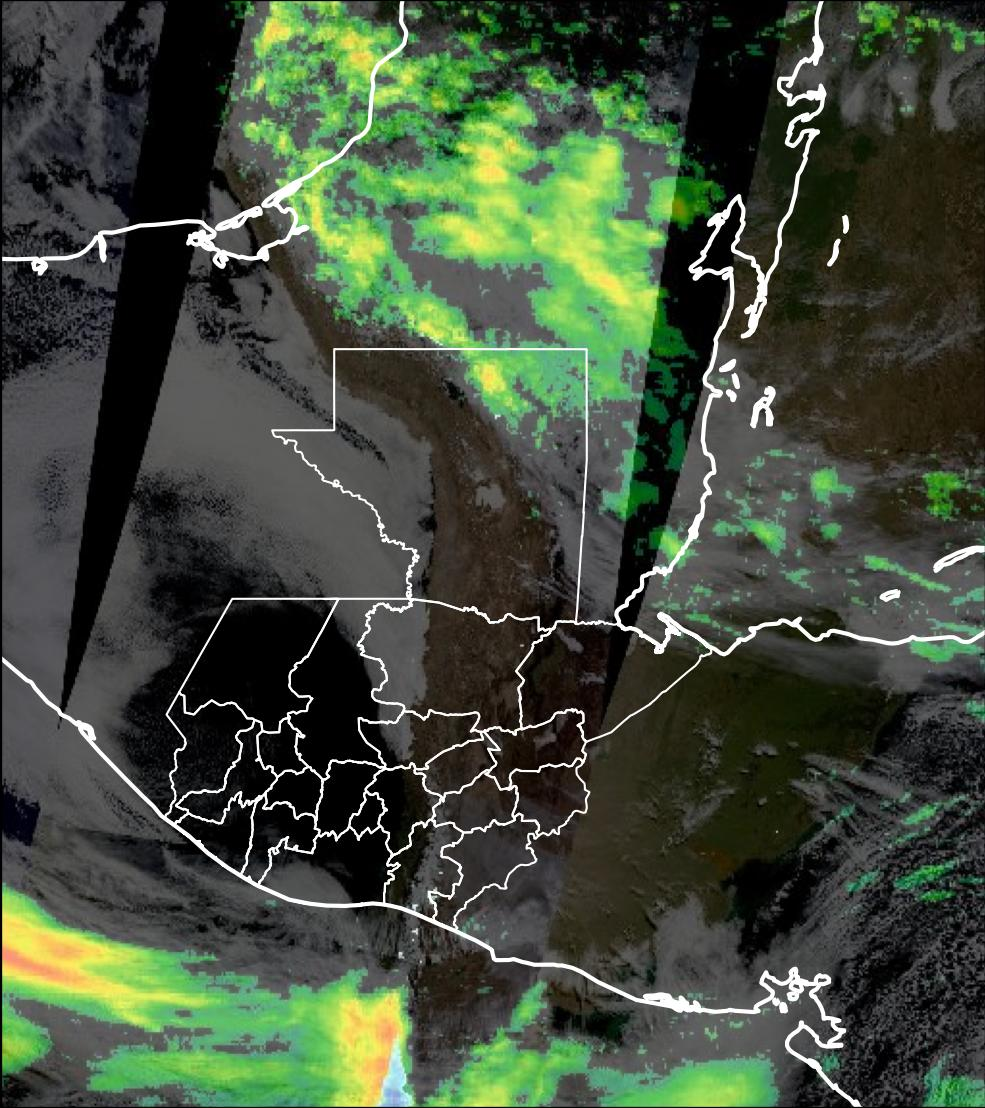precipitacion: (1, 872, 184, 1038)
